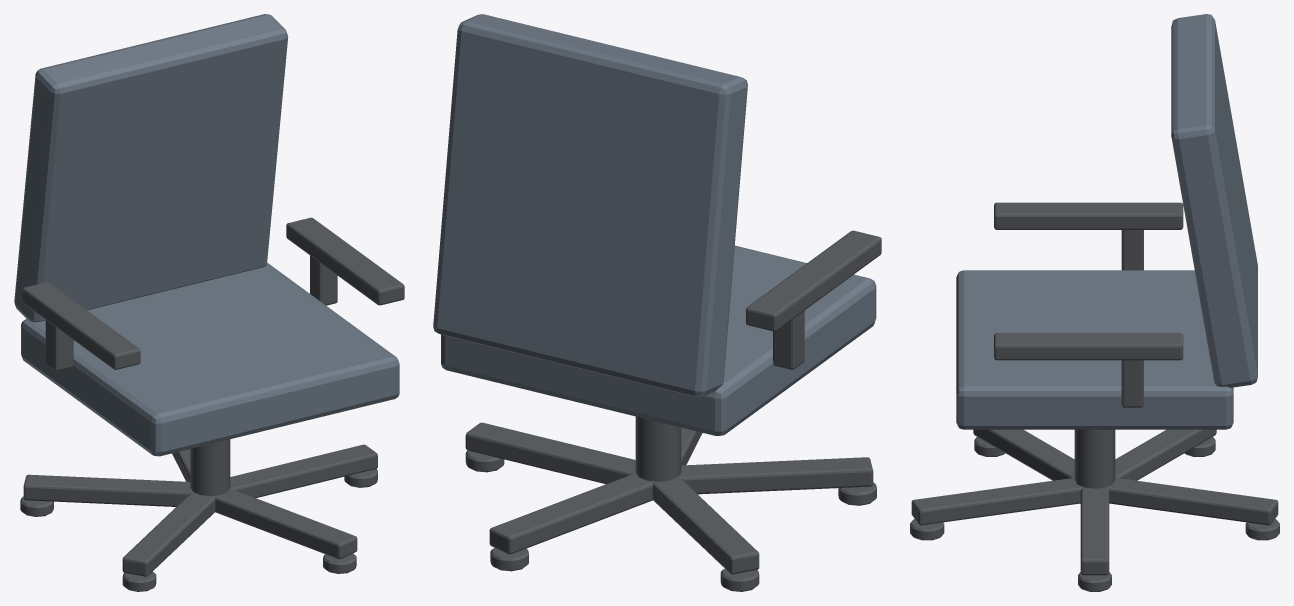
The model's file is officeChair.glb.
3 views of the same model, side by side, from view 1: azimuth 30°, elevation 25°; view 2: azimuth 150°, elevation 25°; view 3: azimuth 270°, elevation 25° (orthographic). The views are drawn at different scales.
Visible parts, largest first — view 1: officeChair; view 2: officeChair; view 3: officeChair.
Part boxes in pixels (x1,y1,x2,y2): officeChair: (14, 14, 404, 591); officeChair: (433, 14, 881, 591); officeChair: (910, 14, 1279, 591).
Bounding box in the file's own units: 0.5766 × 0.7728 × 0.5867.
